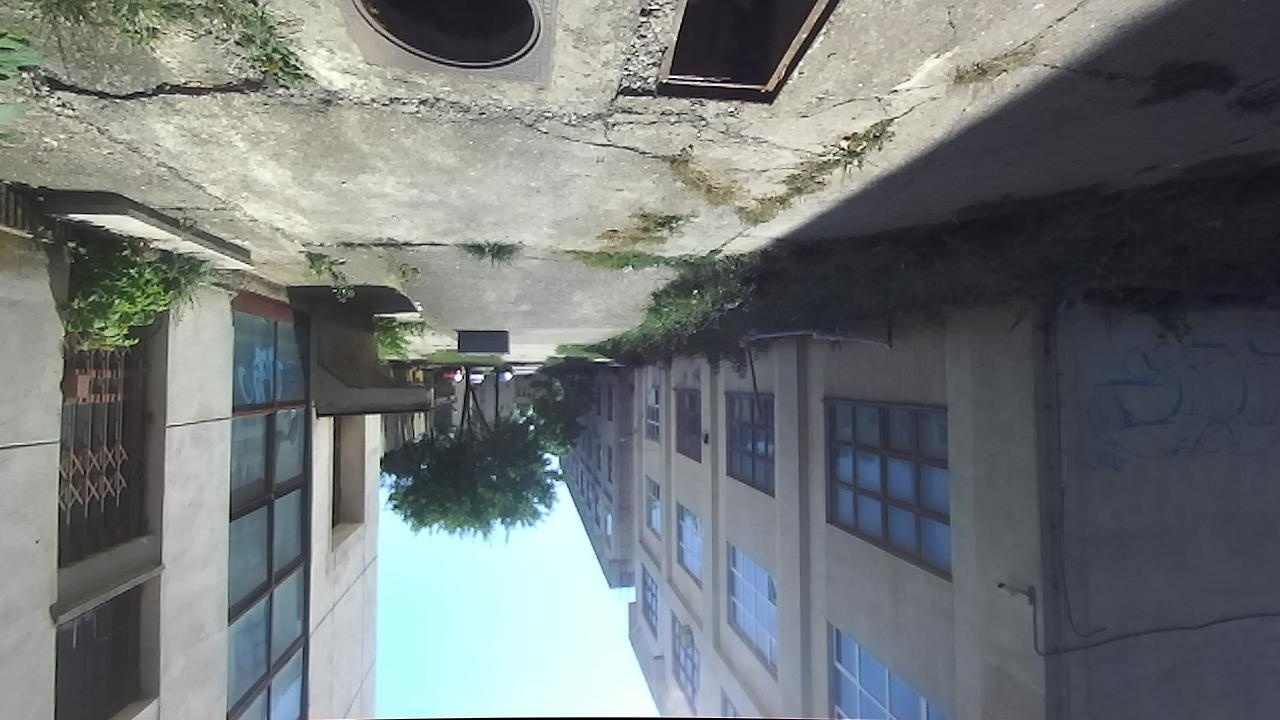drain: (650, 0, 843, 110), (348, 0, 550, 74)
